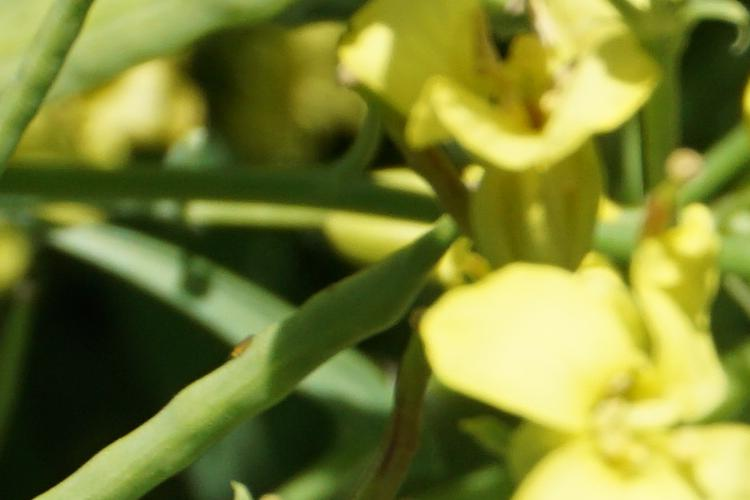pod: (85, 202, 460, 416)
yellow: (491, 228, 737, 484), (403, 34, 690, 206)
